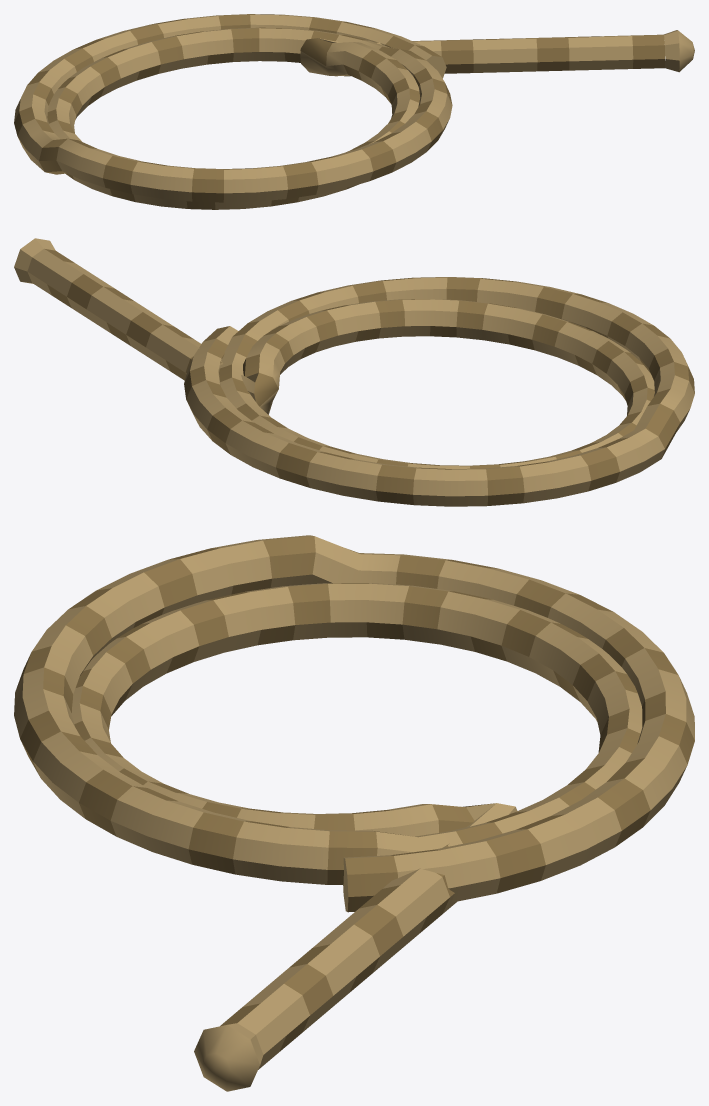
File: rope.glb
3 views of the same model, one above another, from view 1: azimuth 30°, elevation 25°; view 2: azimuth 150°, elevation 25°; view 3: azimuth 270°, elevation 25° (orthographic). The views are drawn at different scales.
Visible parts, largest first — view 1: rope; view 2: rope; view 3: rope.
Part boxes in pixels (bbox=[...]): rope: bbox=[14, 14, 694, 209]; rope: bbox=[14, 238, 694, 506]; rope: bbox=[14, 535, 694, 1091].
Bounding box in the file's own units: 0.3 × 0.0261 × 0.1763.
